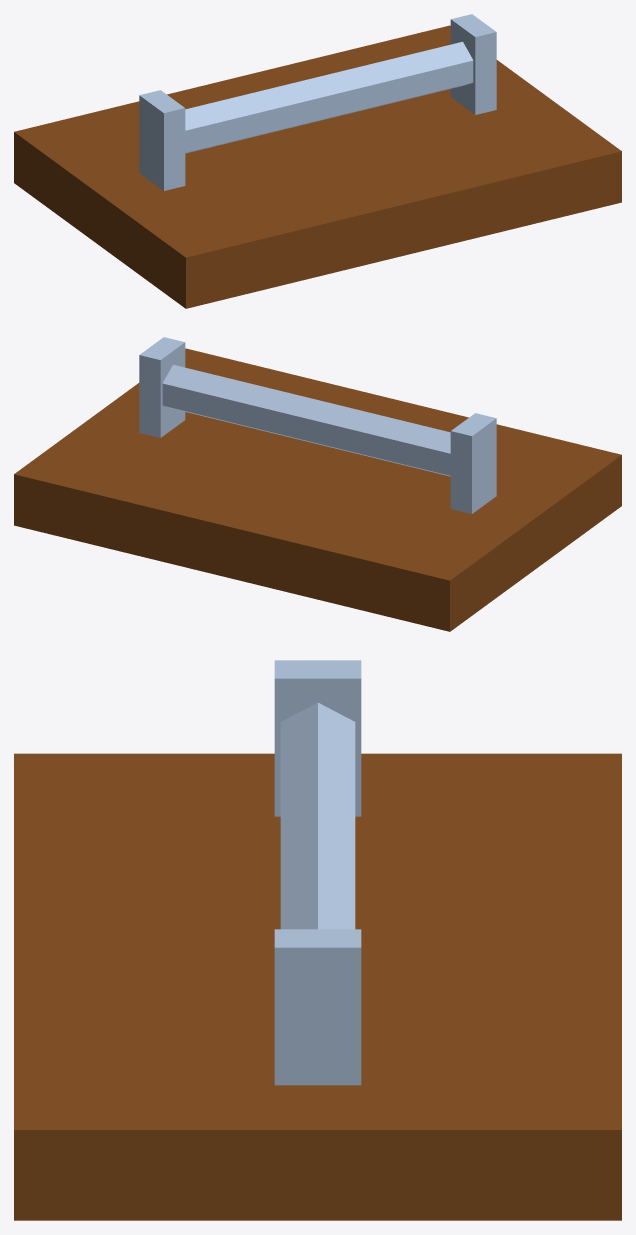
File: small container lid.fbx
3 views of the same model, one above another, from view 1: azimuth 30°, elevation 25°; view 2: azimuth 150°, elevation 25°; view 3: azimuth 270°, elevation 25° (orthographic). The views are drawn at different scales.
Parts seen in each view (by area): view 1: Lid; view 2: Lid; view 3: Lid.
Boxes of the visible parts, left/top/right/bottom form: Lid: left=14, top=14, right=621, bottom=308; Lid: left=14, top=337, right=621, bottom=631; Lid: left=14, top=660, right=621, bottom=1220.
Bounding box in the file's own units: 41 × 11.6 × 28.
